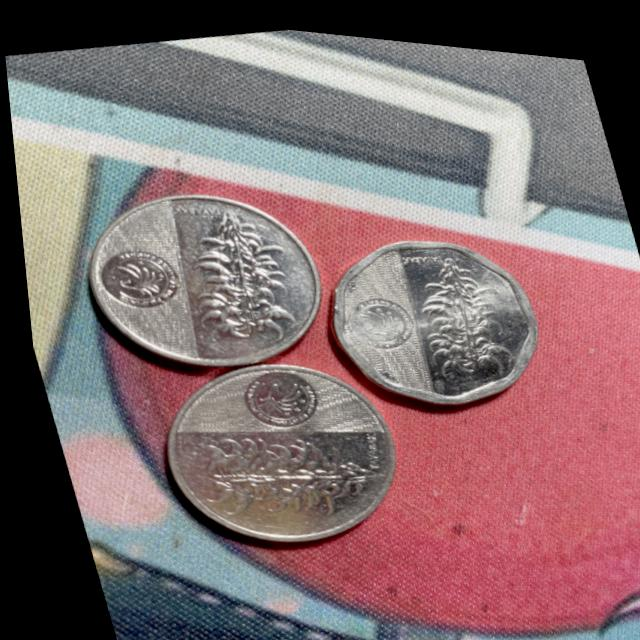5_New_Back: (182, 409, 376, 535), (165, 200, 302, 341), (397, 236, 515, 381)
